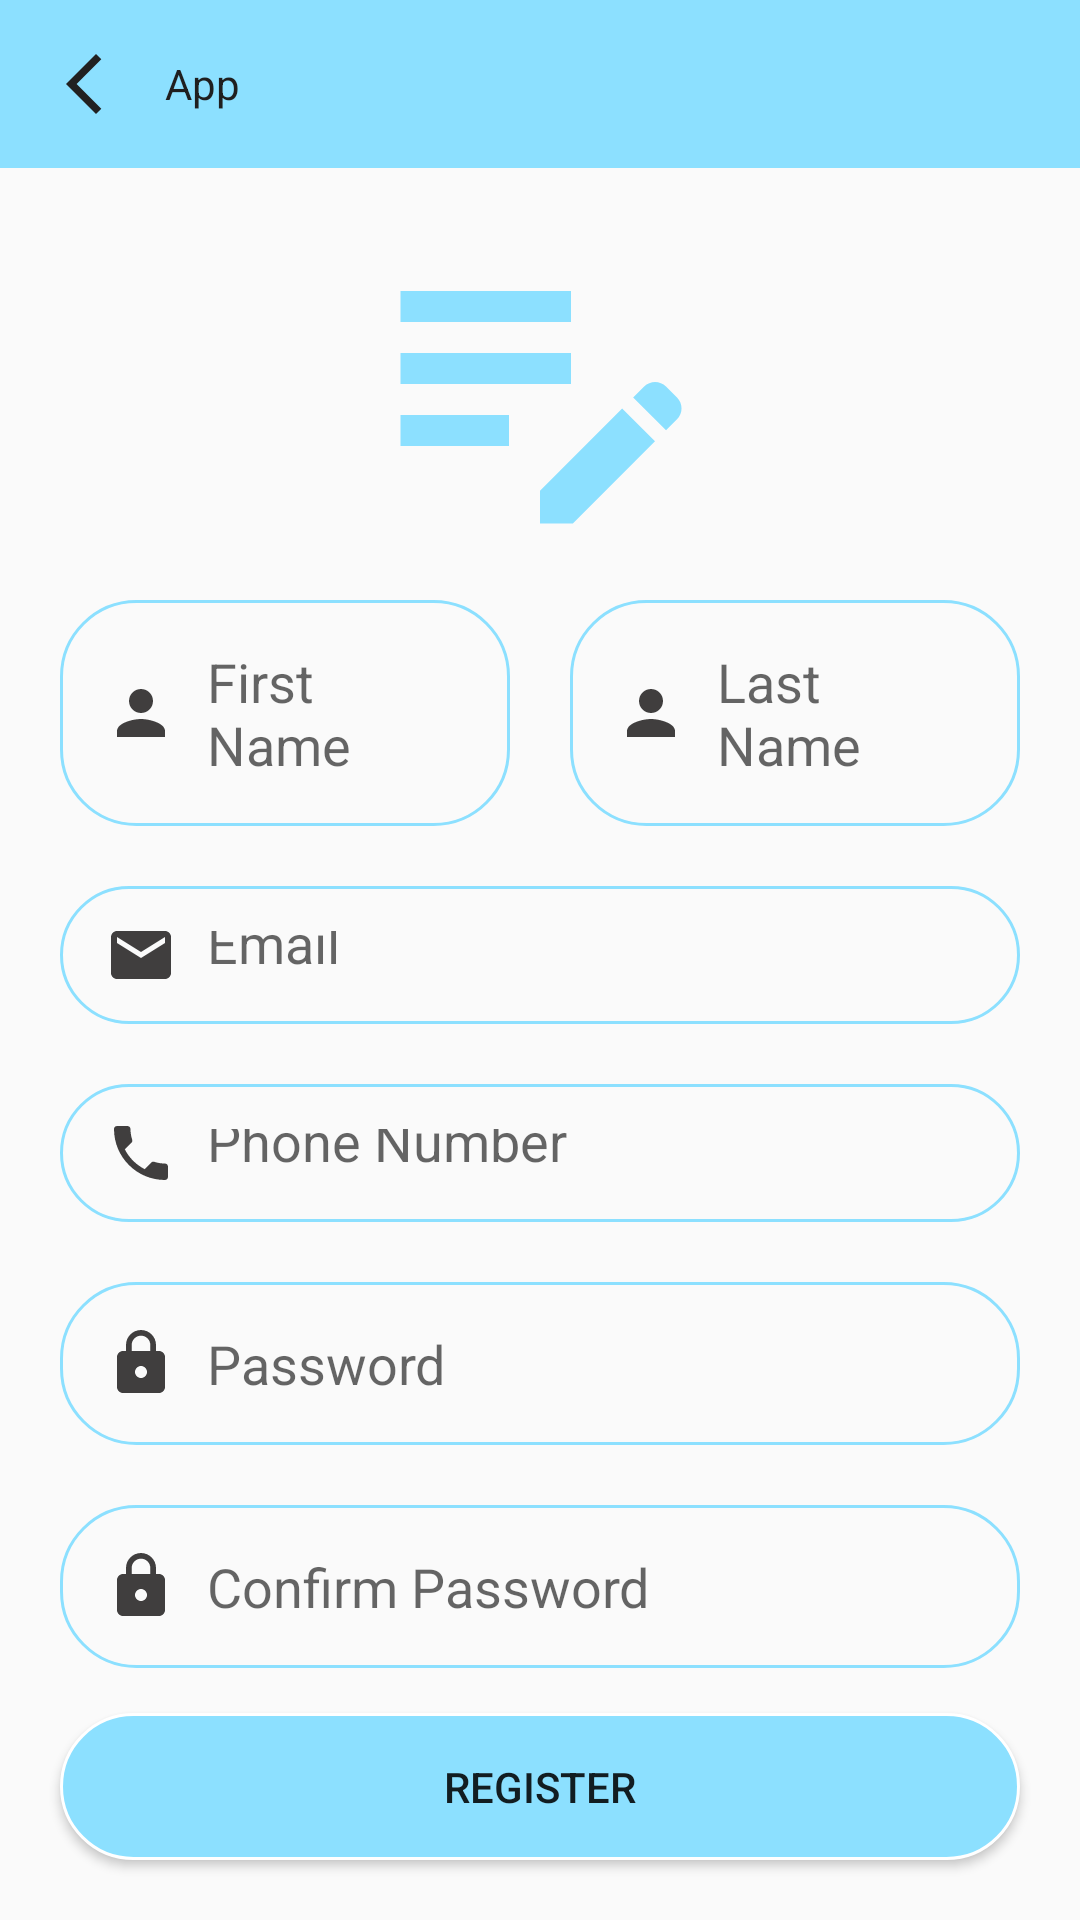

Point at icon controls on the screen. Image size 1080*1920, points as [x,y].
edit note: [541,407]
